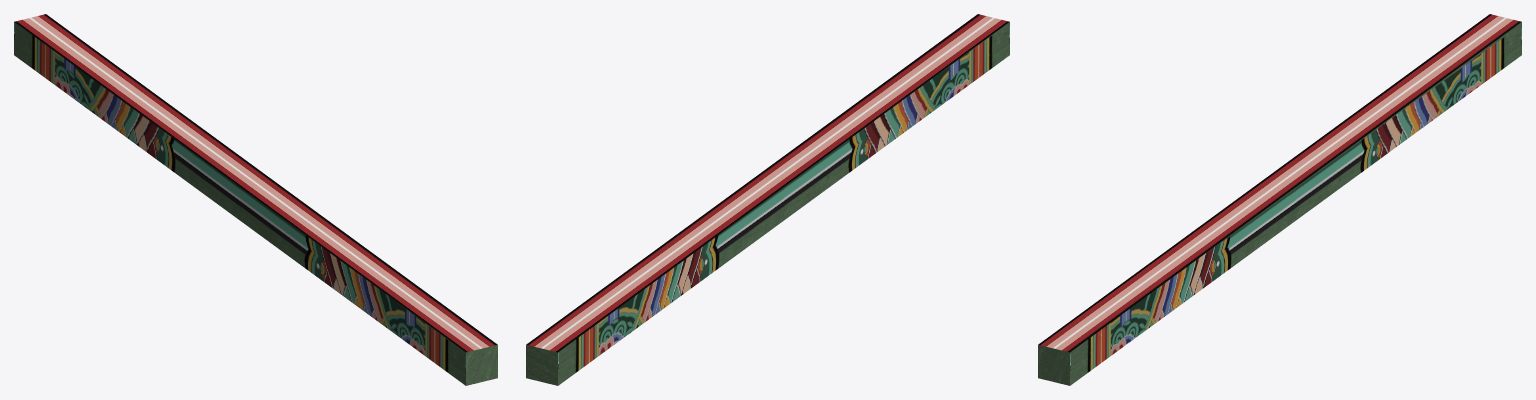
The model's file is SM_Beam04H.fbx.
3 renders of one model, left to right at view 1: azimuth 30°, elevation 25°; view 2: azimuth 150°, elevation 25°; view 3: azimuth 330°, elevation 25°, orthographic.
Visible parts, largest first — view 1: SM_Beam04H; view 2: SM_Beam04H; view 3: SM_Beam04H.
Boxes of the visible parts, left/top/right/bottom form: SM_Beam04H: left=14, top=14, right=497, bottom=385; SM_Beam04H: left=526, top=14, right=1009, bottom=385; SM_Beam04H: left=1038, top=14, right=1521, bottom=385.
Bounding box in the file's own units: 10.4 × 255 × 10.43.
Materials: 1 (1 with a texture image).
